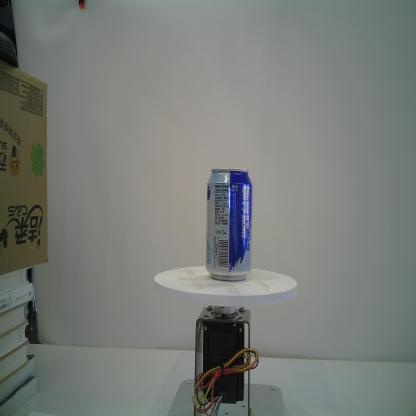Alcohol: (206, 168, 253, 282)
